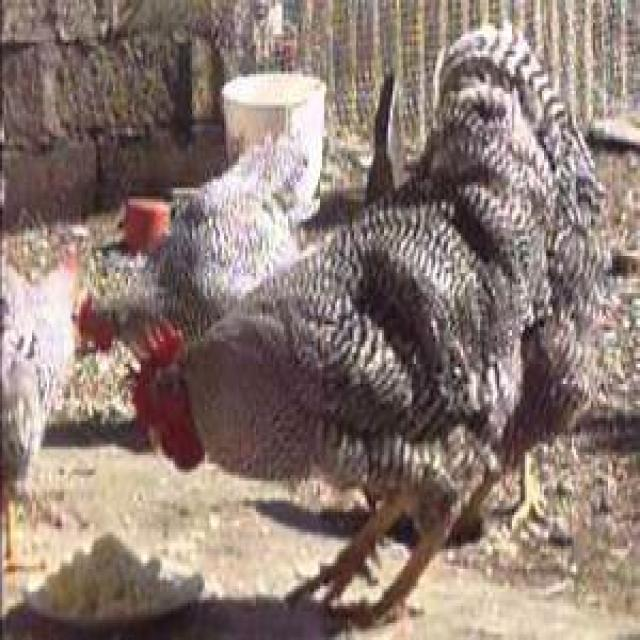animal: (128, 23, 621, 623)
